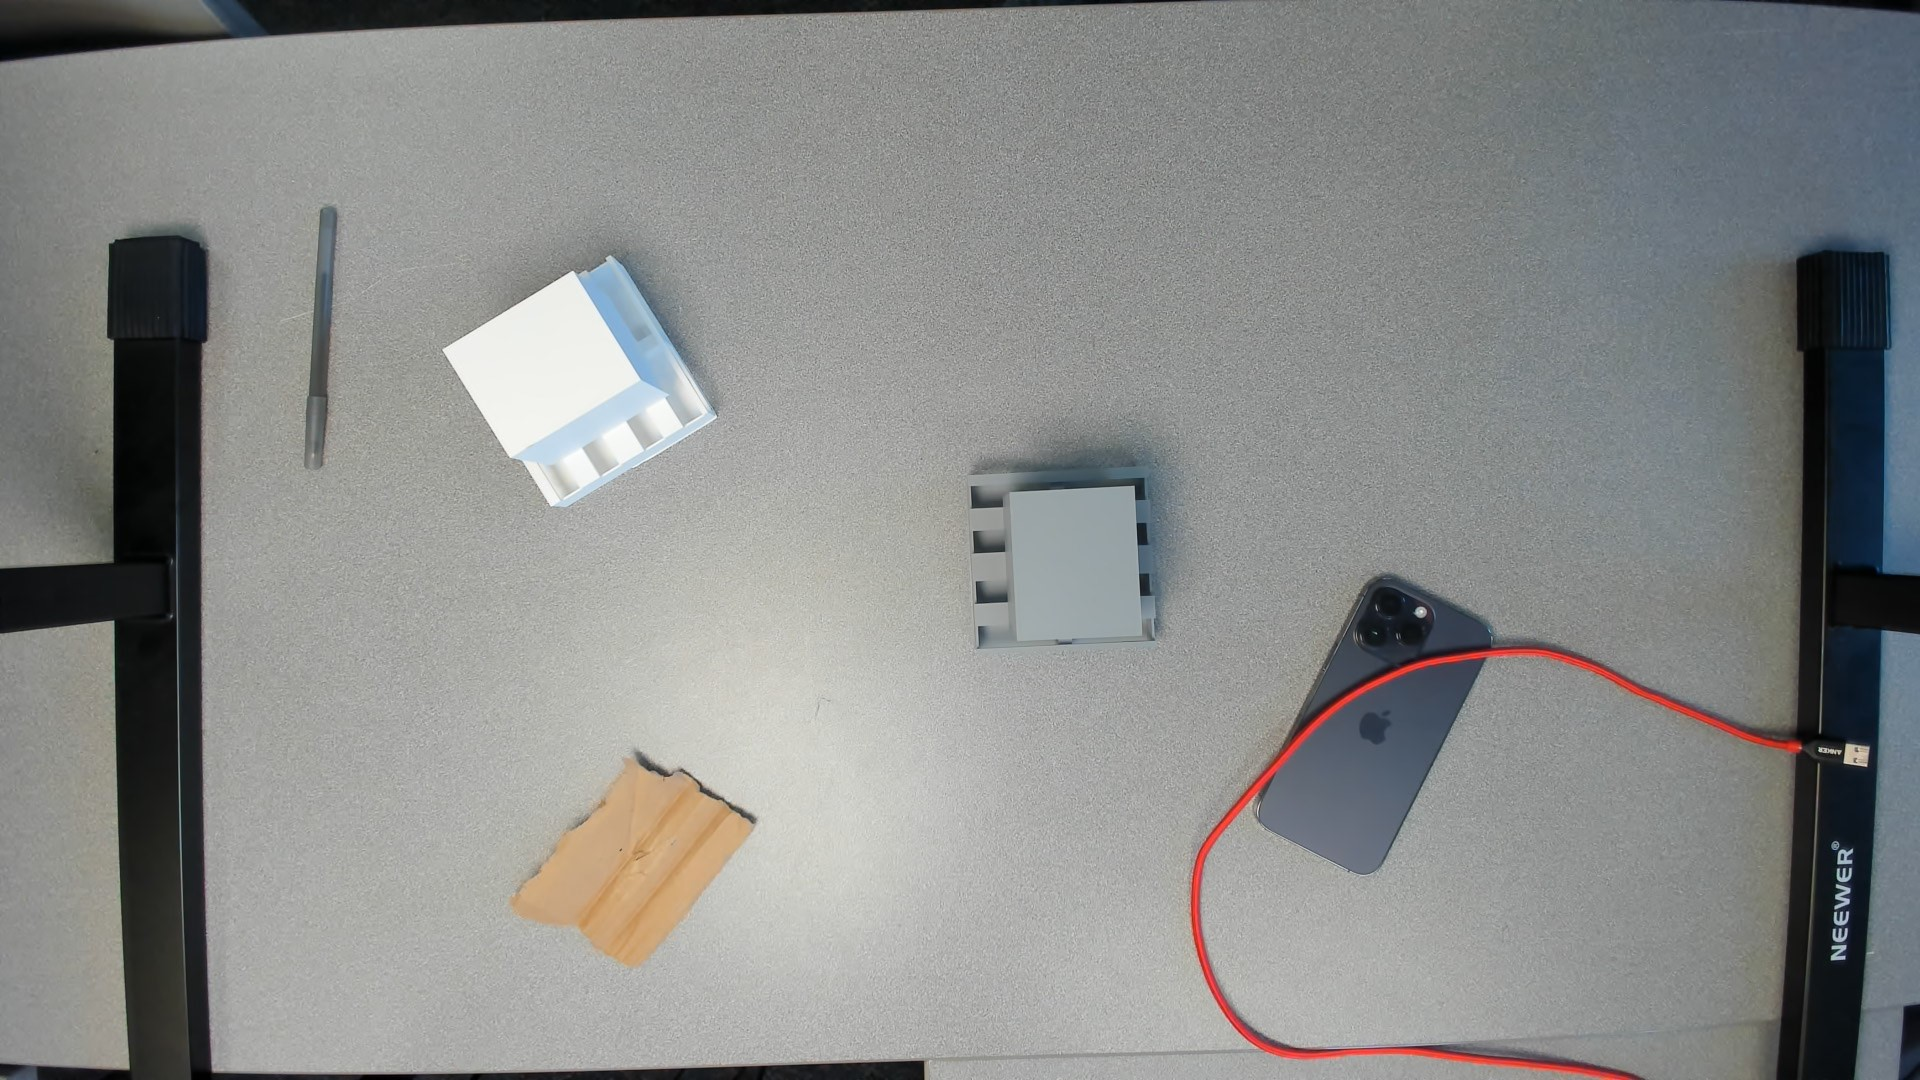grey pallet: (951, 455, 1180, 673)
white pallet: (433, 251, 731, 524)
